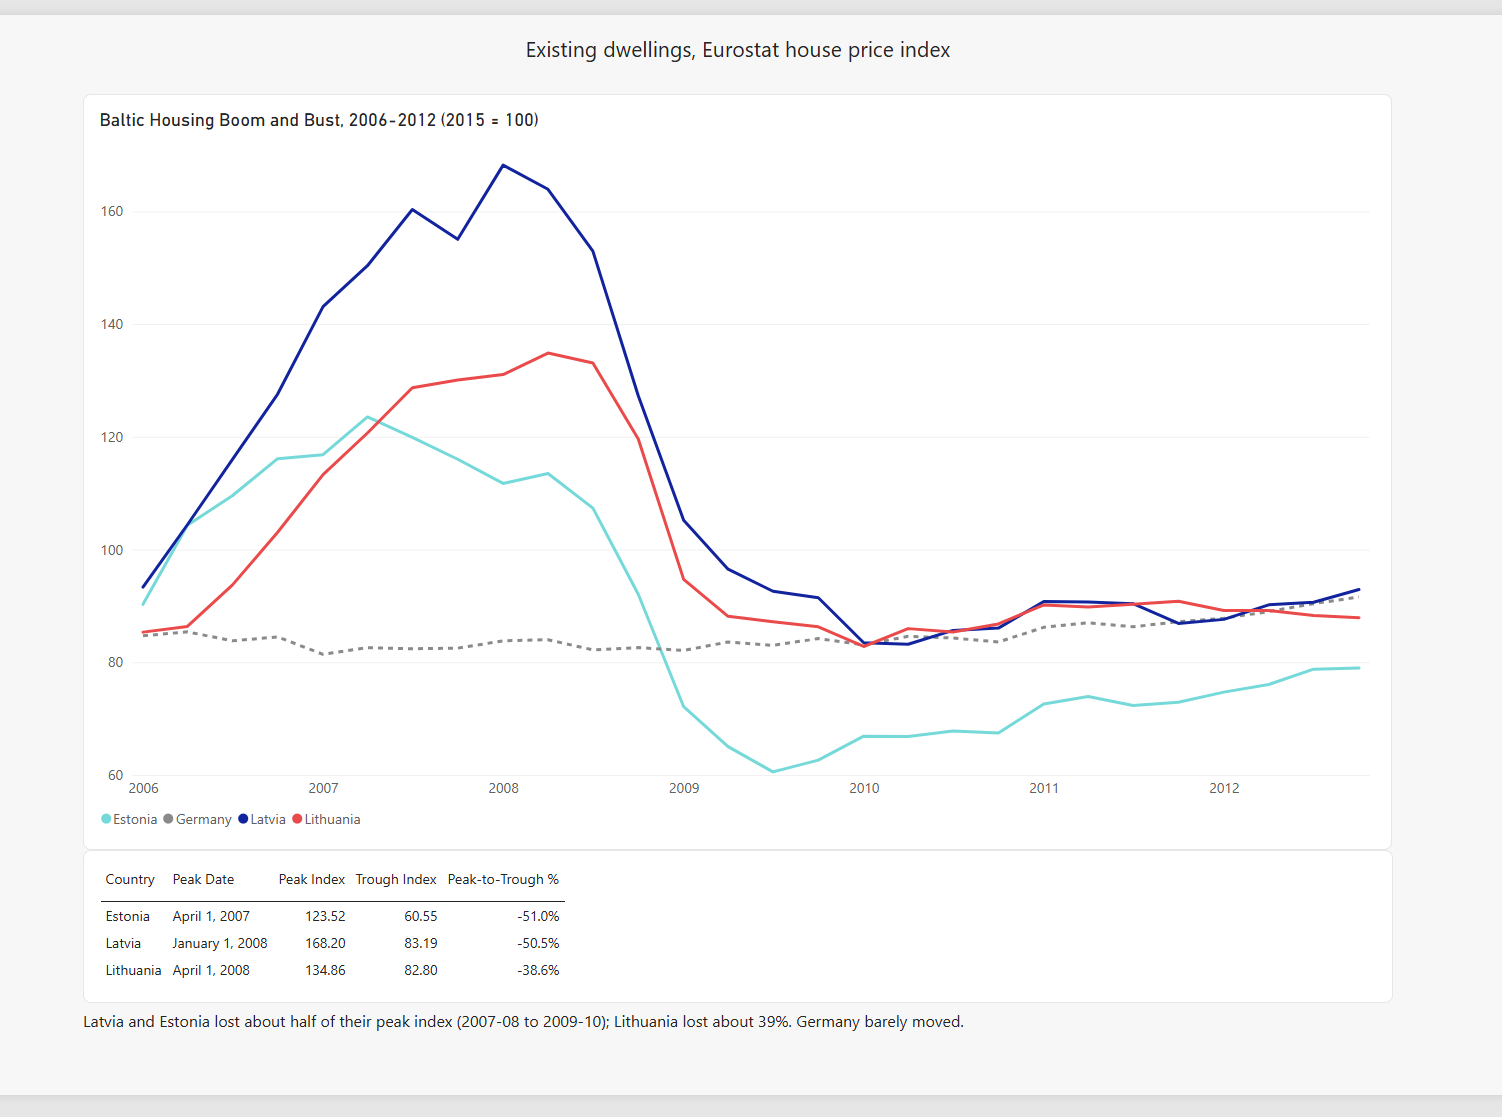

Layout of this report page (visuals, bound fields, positions):
{"tool":"powerbi","page":{"name":"Boom and bust","canvas":[1920,1080],"ordinal":1},"visuals":[{"type":"lineChart","title":"Baltic Housing Boom and Bust, 2006-2012 (2015 = 100)","fields":{"Category":["house_price_clean.QuarterStart"],"Series":["house_price_clean.Country"],"Y":["house_price_clean.Index"]},"box":[289.3,79.3,1308.2,755.4],"z":0},{"type":"tableEx","fields":{"Values":["house_price_clean.Country","house_price_clean.Peak Date","house_price_clean.Peak Index","house_price_clean.Trough Index","house_price_clean.Peak-to-Trough %"]},"box":[289.3,834.6,1309.3,153.2],"z":2},{"type":"textbox","box":[289.3,0,1309.3,79.3],"z":3},{"type":"textbox","box":[289.3,995.4,1308.2,84.6],"z":4}]}

Visuals, with their boxes on the page's 1920x1080 design canvas (x1, y1, x2, y2). These are canvas units, not pixel positions in the 1502x1117 screenshot, which may show the page scaled, cropped or inside an application window:
"Baltic Housing Boom and Bust, 2006-2012 (2015 = 100)" lineChart: select_region(289, 79, 1598, 835)
tableEx - house_price_clean.Country x house_price_clean.Peak Date: select_region(289, 835, 1599, 988)
textbox: select_region(289, 0, 1599, 79)
textbox: select_region(289, 995, 1598, 1080)
